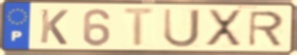6: (81, 7, 112, 48)
K: (38, 8, 70, 47)
R: (247, 10, 286, 48)
T: (121, 7, 159, 49)
U: (162, 7, 202, 49)
X: (204, 8, 244, 49)
